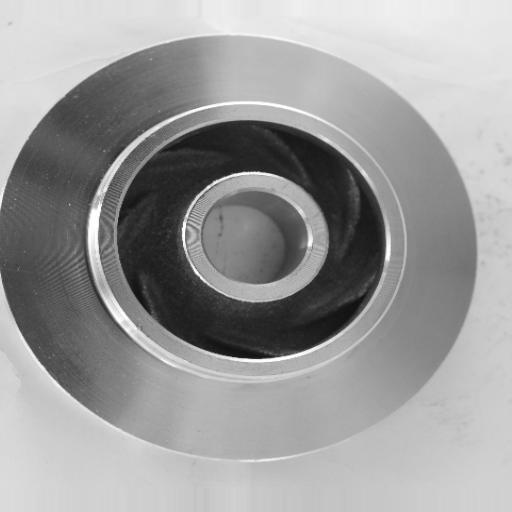polished_casting: (0, 34, 479, 467)
